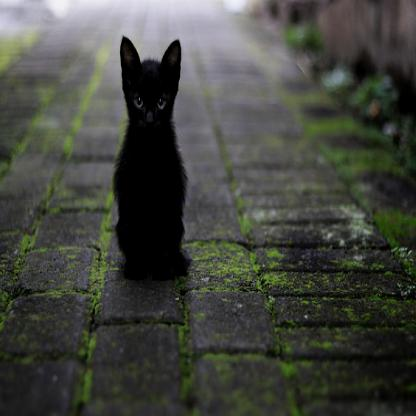cat: (108, 27, 190, 286)
